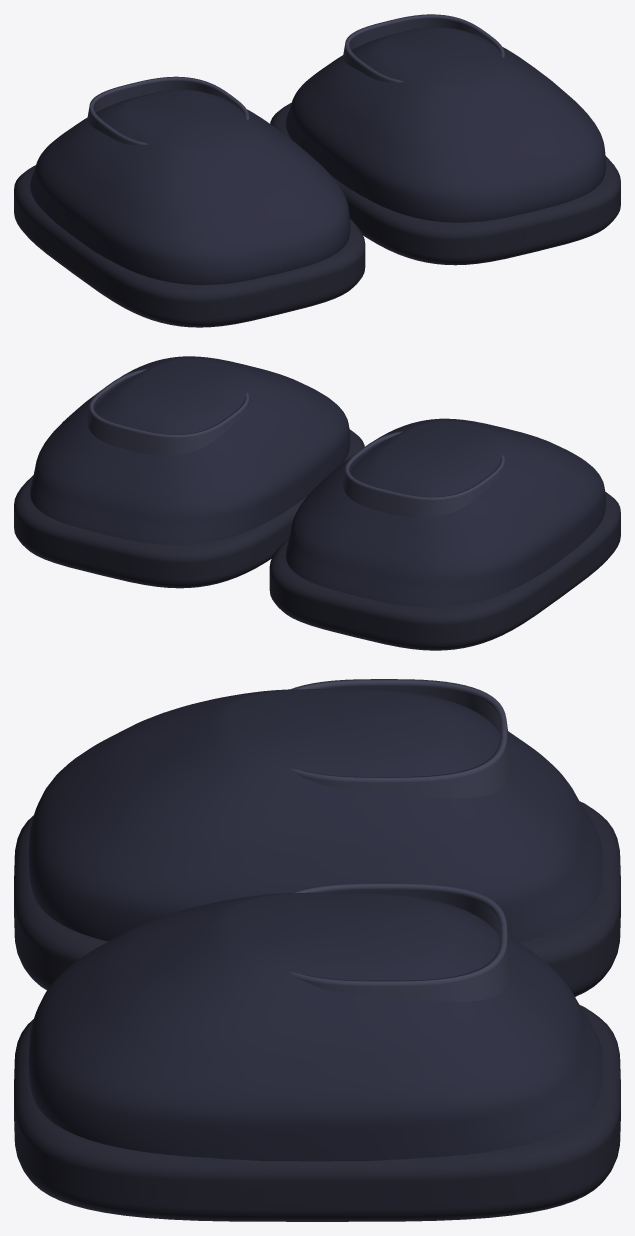
Rendered from butler_shoes.glb.
The picture shows the model from 3 angles, top to bottom: view 1: azimuth 30°, elevation 25°; view 2: azimuth 150°, elevation 25°; view 3: azimuth 270°, elevation 25°; orthographic projection. The views are drawn at different scales.
Parts seen in each view (by area): view 1: butler_shoes__upper_r, butler_shoes__upper_l, butler_shoes__sole_r, butler_shoes__sole_l, butler_shoes__ankle_collar_l, butler_shoes__ankle_collar_r; view 2: butler_shoes__upper_r, butler_shoes__upper_l, butler_shoes__sole_r, butler_shoes__sole_l, butler_shoes__ankle_collar_l, butler_shoes__ankle_collar_r; view 3: butler_shoes__upper_l, butler_shoes__upper_r, butler_shoes__sole_l, butler_shoes__sole_r, butler_shoes__ankle_collar_l, butler_shoes__ankle_collar_r.
Part boxes in pixels (box(x1,y1,x2,y2)): butler_shoes__upper_r: box(30, 89, 350, 284); butler_shoes__upper_l: box(286, 27, 605, 222); butler_shoes__sole_r: box(14, 165, 365, 327); butler_shoes__sole_l: box(270, 103, 620, 265); butler_shoes__ankle_collar_l: box(342, 14, 504, 82); butler_shoes__ankle_collar_r: box(87, 76, 249, 144); butler_shoes__upper_r: box(286, 418, 605, 607); butler_shoes__upper_l: box(30, 356, 350, 545); butler_shoes__sole_r: box(269, 492, 620, 650); butler_shoes__sole_l: box(14, 429, 364, 588); butler_shoes__ankle_collar_l: box(87, 368, 249, 455); butler_shoes__ankle_collar_r: box(342, 430, 504, 518); butler_shoes__upper_l: box(28, 892, 602, 1161); butler_shoes__upper_r: box(28, 689, 602, 942); butler_shoes__sole_l: box(14, 1005, 620, 1221); butler_shoes__sole_r: box(14, 801, 620, 996); butler_shoes__ankle_collar_l: box(289, 882, 511, 1001); butler_shoes__ankle_collar_r: box(289, 679, 511, 798).
Bounding box in the file's own units: 2.02 × 0.485 × 1.31.
